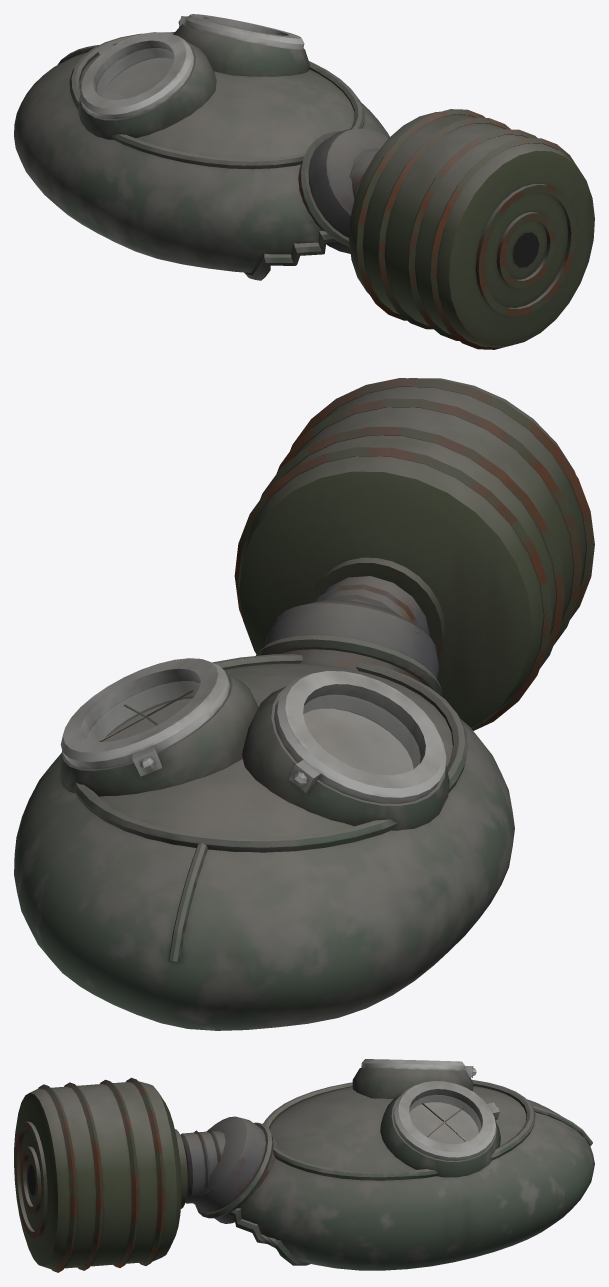
Rendered from SM_GasMask.fbx.
3 views of the same model, one above another, from view 1: azimuth 30°, elevation 25°; view 2: azimuth 150°, elevation 25°; view 3: azimuth 270°, elevation 25° (orthographic). The views are drawn at different scales.
Visible parts, largest first — view 1: SM_GasMask; view 2: SM_GasMask; view 3: SM_GasMask.
Part boxes in pixels (box(x1,y1,x2,y2)): SM_GasMask: box(14, 14, 594, 349); SM_GasMask: box(14, 378, 594, 1030); SM_GasMask: box(14, 1059, 594, 1272).
Bounding box in the file's own units: 0.1939 × 0.1146 × 0.3464.
Materials: 2 (1 with a texture image).
